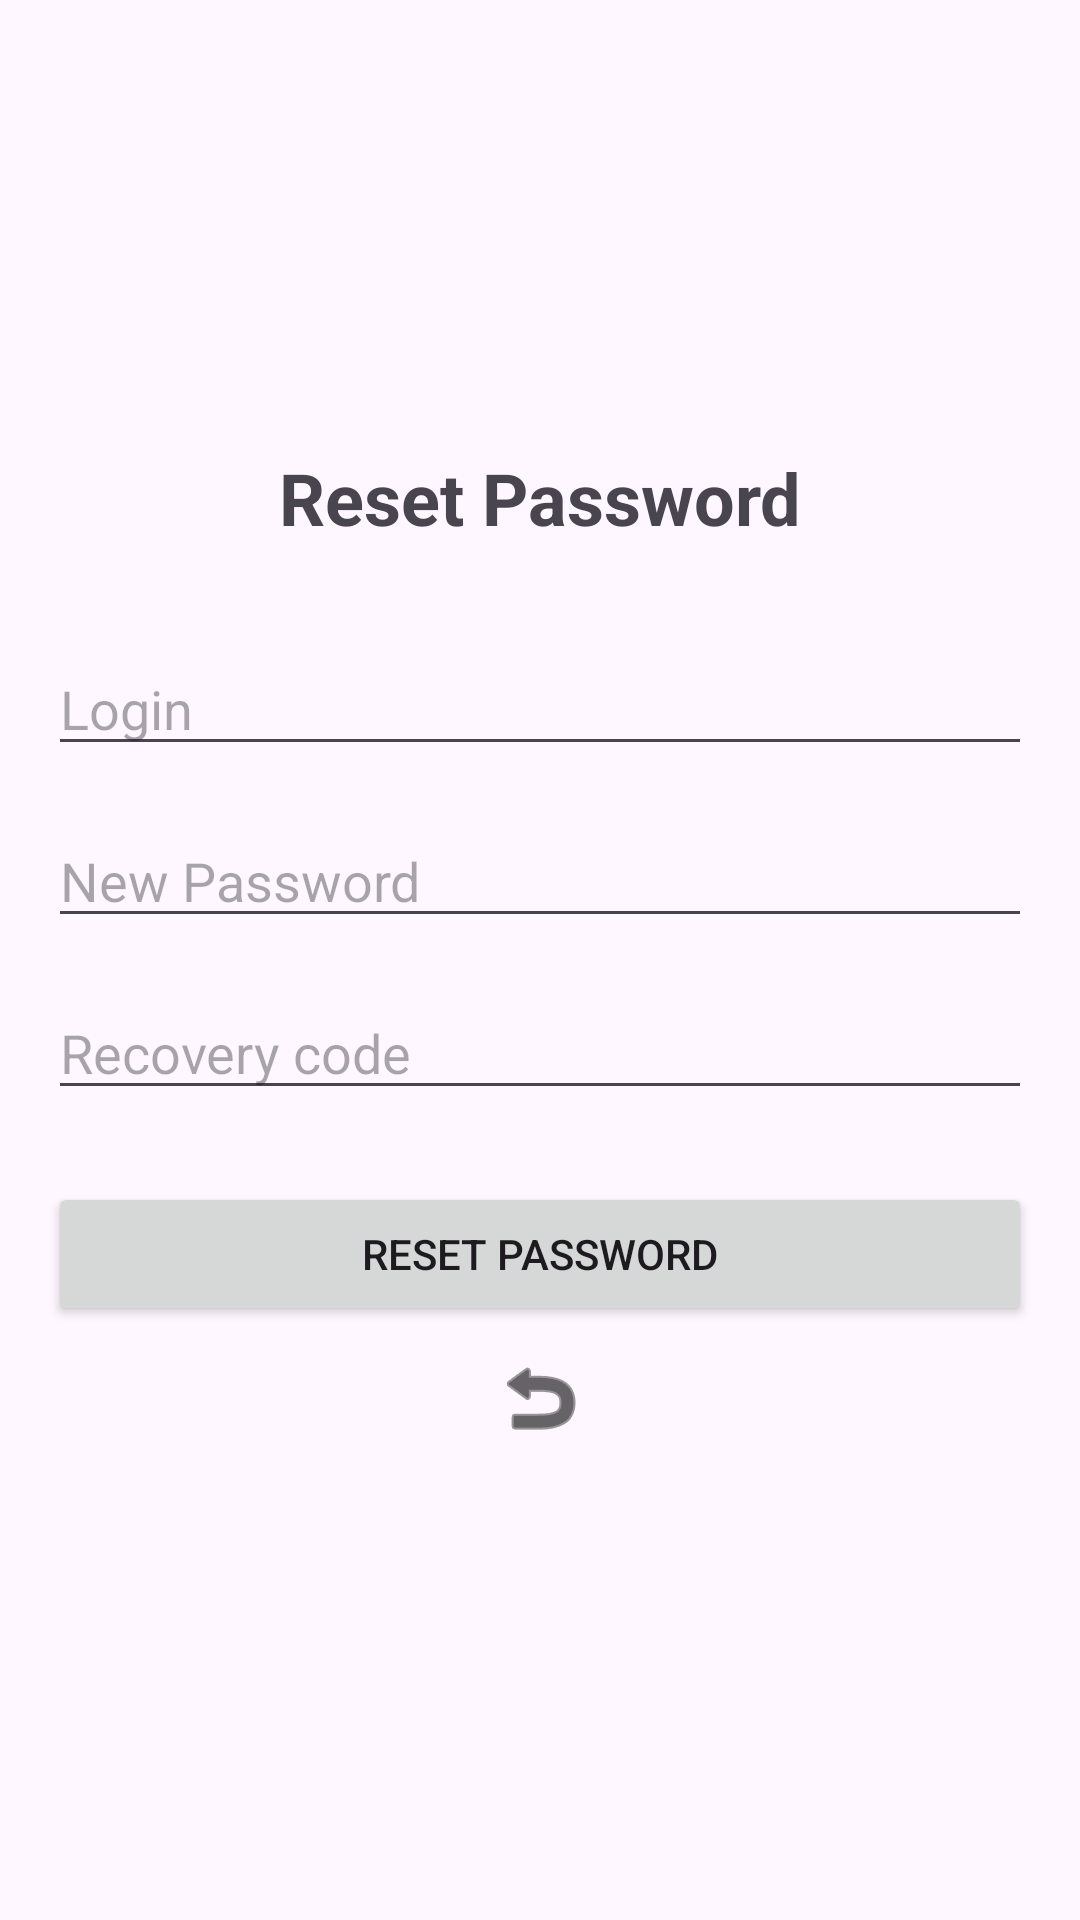

Icons on this 1080×1920 Android screen, each with the point to tap as (x,y):
revert: (541,1398)
